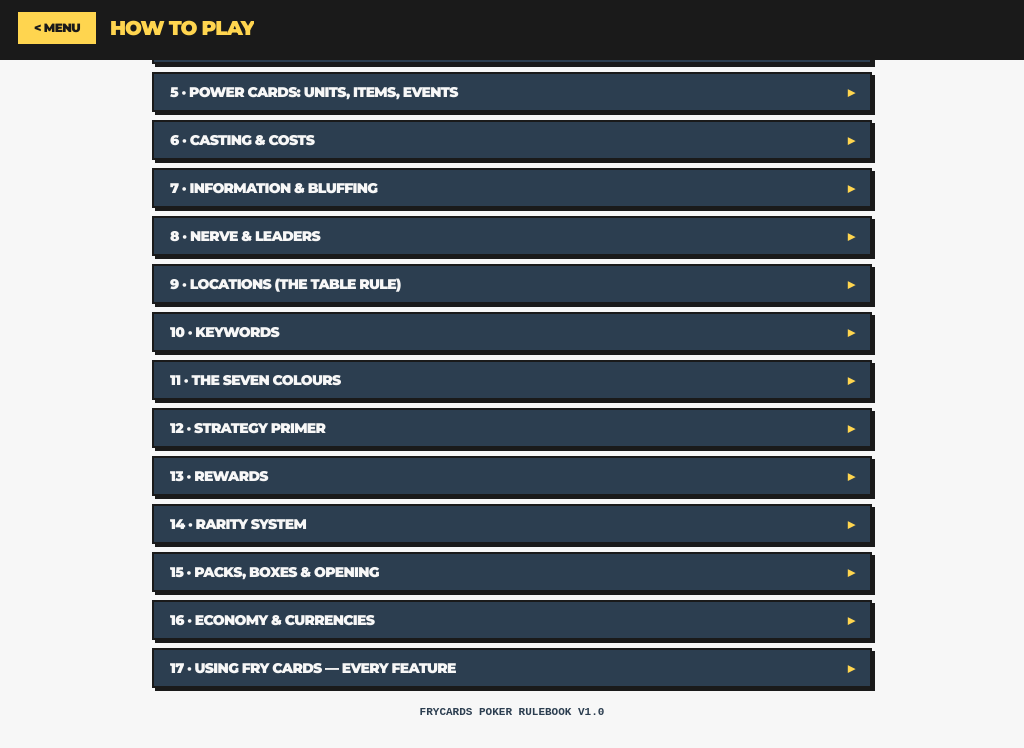
Test: HowToPlay teaches FryCards Poker › rewards are by placement, with the spec numbers
(page scrolled)
Click the button "13 · Rewards ▸" at (219, 476), box [154,458,870,494]
(page scrolled)
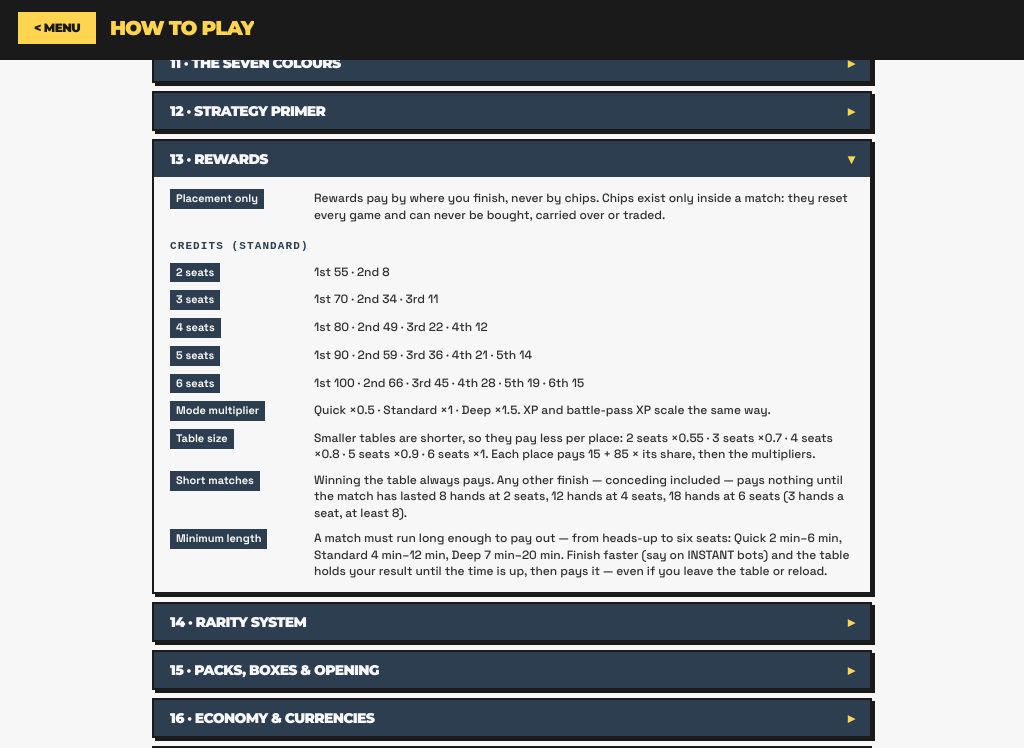
Now the text "1st 100 · 2nd 66 · 3rd 45 · 4th 28 · 5th 19 · 6th 15" is shown, box [314,374,584,390]
Now the element that starts with "Placement only" shows "1st 100 · 2nd 66 · 3rd 45 · 4th 28 · 5th 19 · 6th 15", box [314,374,584,390]
Now the element that starts with "Placement only" shows "Quick ×0.5 · Standard ×1 · Deep ×1.5", box [314,402,771,418]
